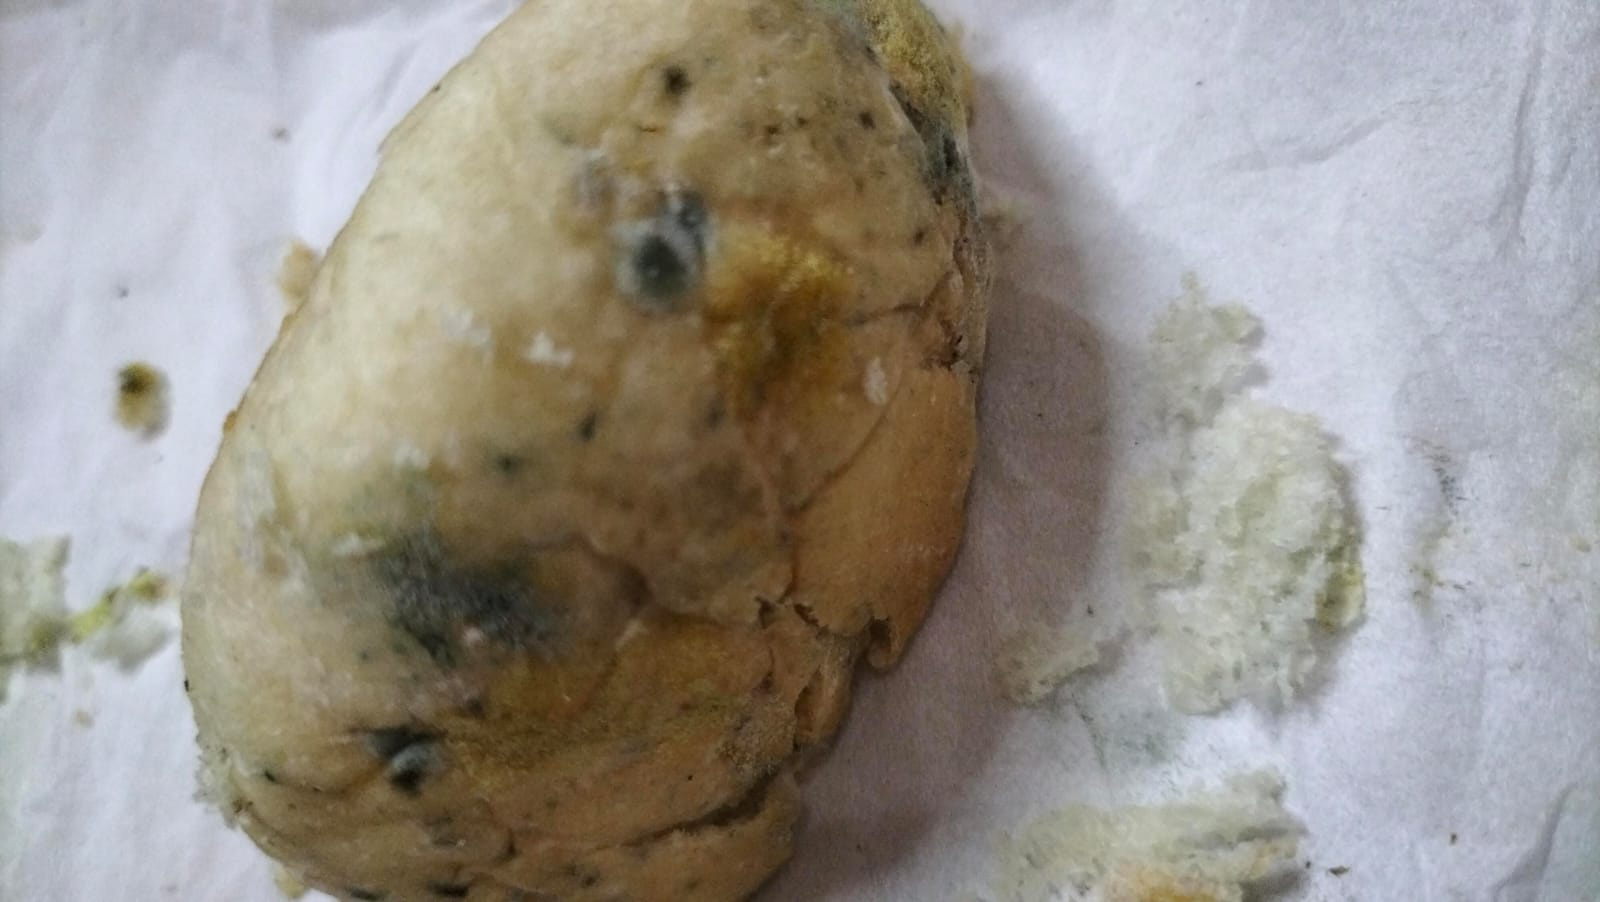mold_bread: (349, 516, 570, 677), (615, 174, 713, 331), (910, 104, 1003, 266), (474, 435, 538, 490), (754, 98, 816, 152), (567, 404, 608, 452), (658, 62, 696, 105), (700, 386, 733, 435), (856, 103, 880, 136)
